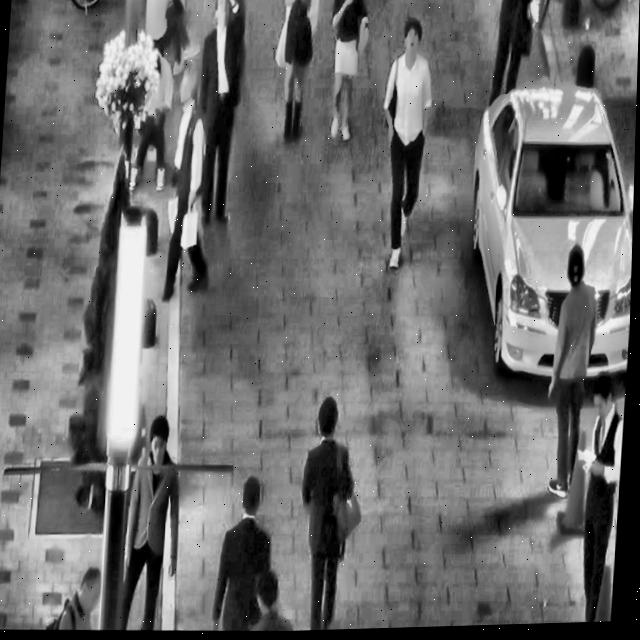light_vehicle: (456, 64, 638, 397)
